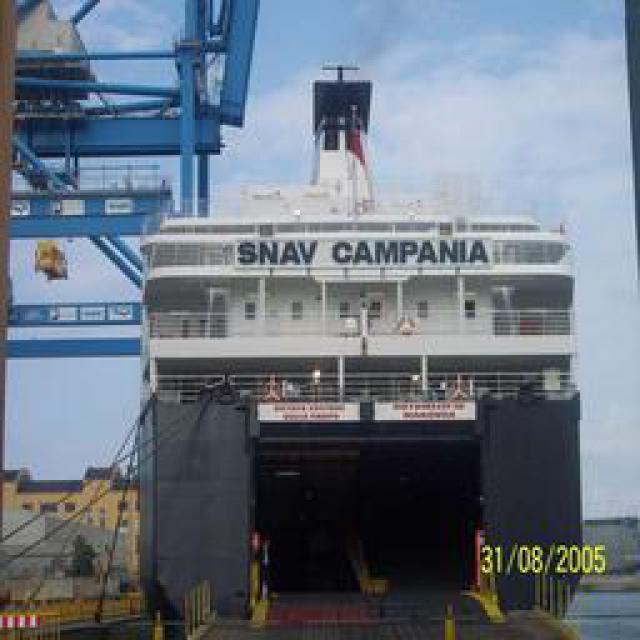Ship: (140, 61, 599, 640)
